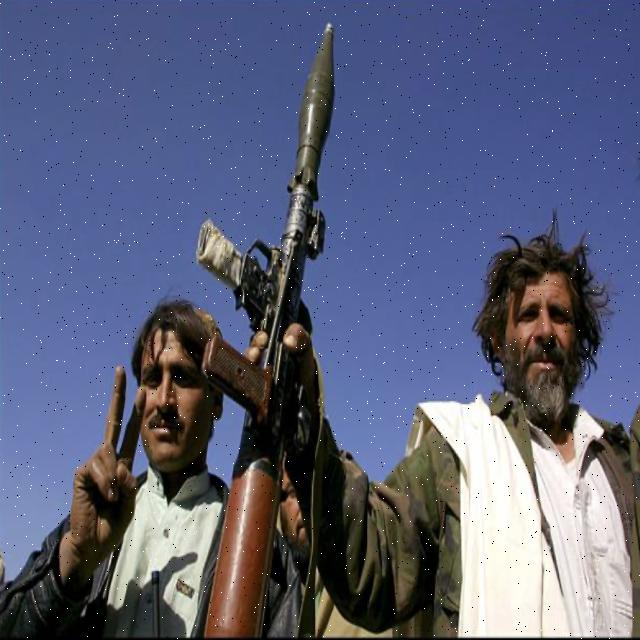bazooka: (186, 5, 346, 639)
